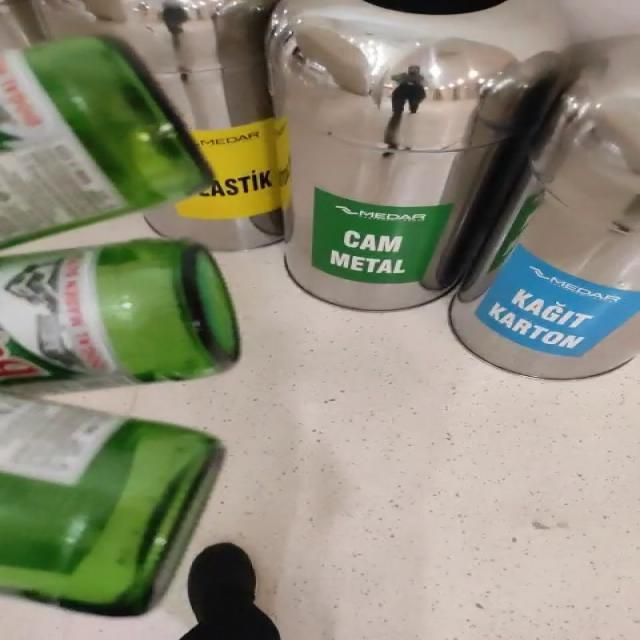Bin: (268, 0, 567, 311)
Glass: (4, 396, 224, 616), (0, 36, 211, 245), (1, 239, 240, 391)
